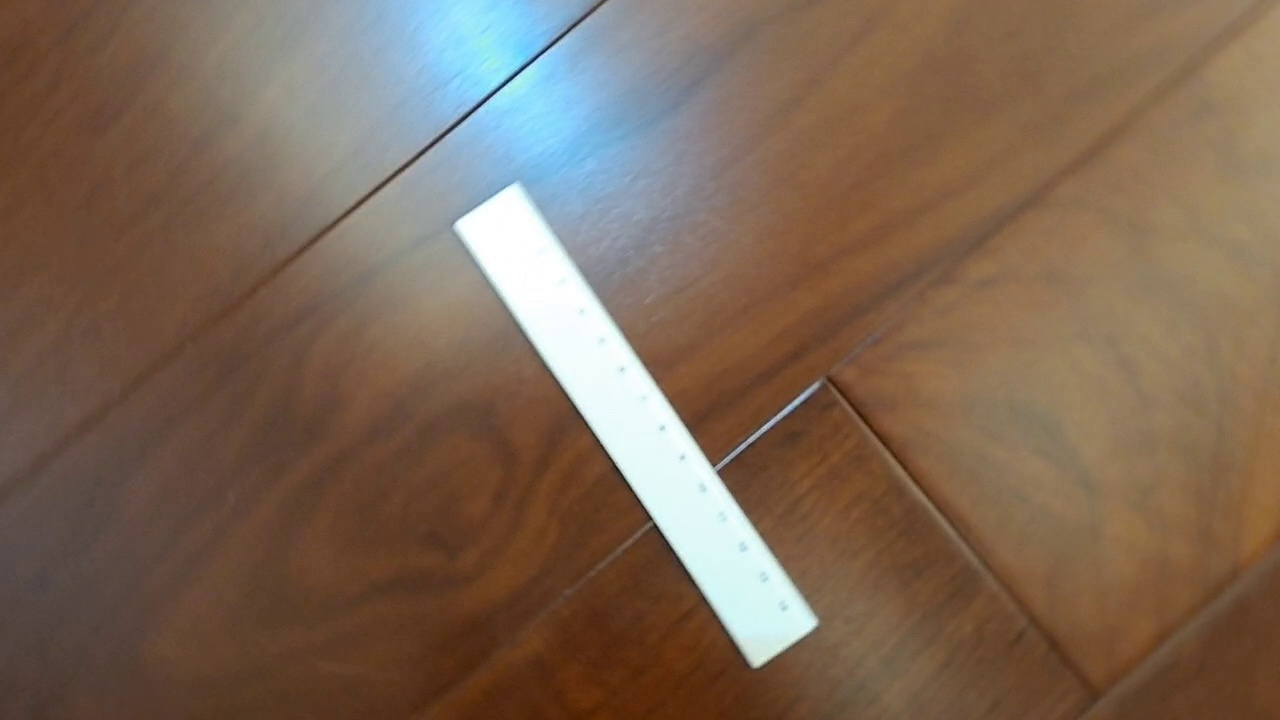ruler: (451, 179, 823, 672)
